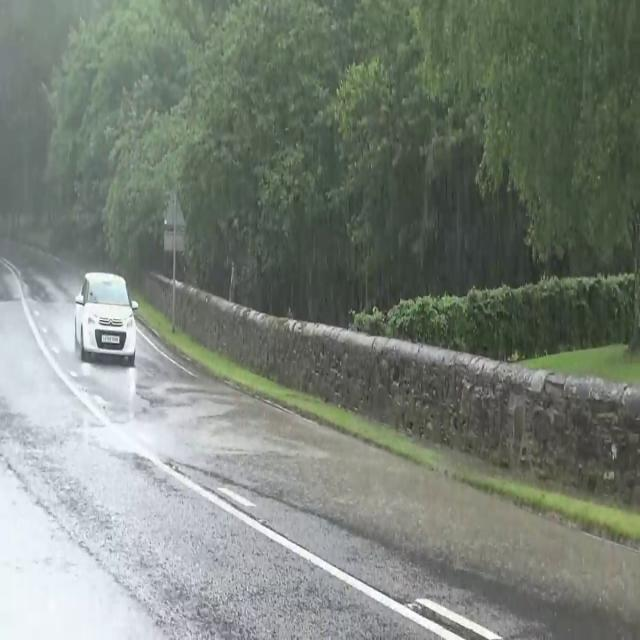license-plate-annotation: (98, 331, 126, 346)
